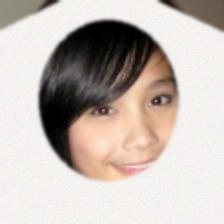Mukena: (0, 28, 220, 224)
